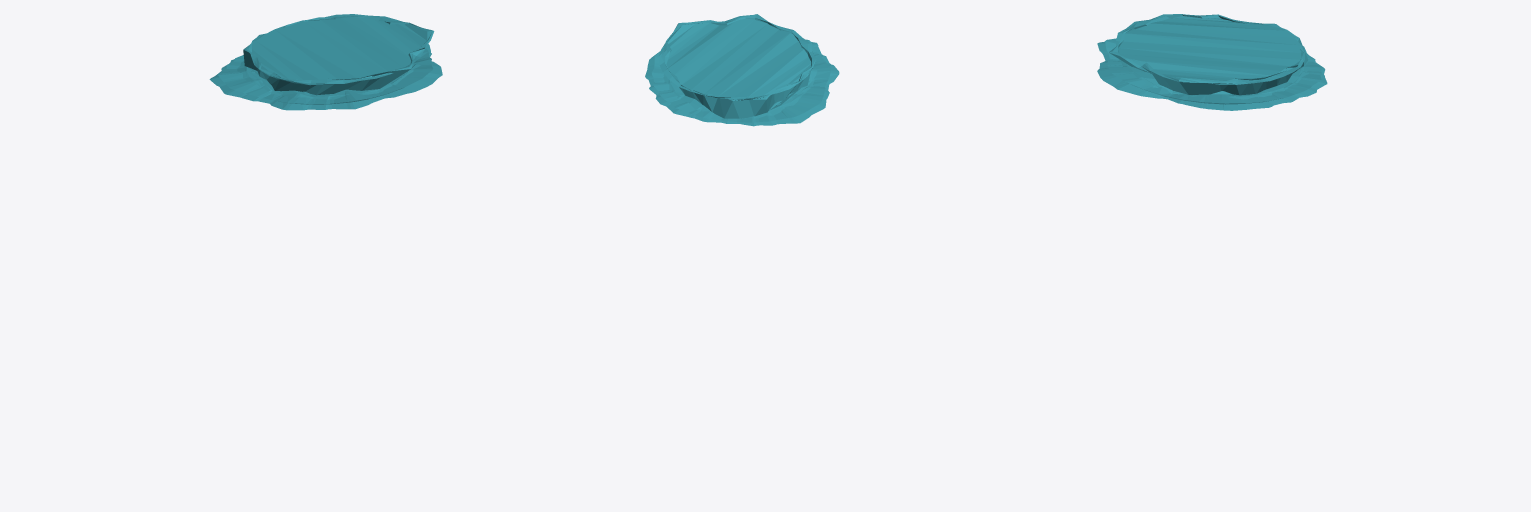
The model's file is crush_high_0.obj.
The picture shows the model from 3 angles, left to right: view 1: azimuth 30°, elevation 25°; view 2: azimuth 150°, elevation 25°; view 3: azimuth 270°, elevation 25°; orthographic projection. The views are drawn at different scales.
Visible parts, largest first — view 1: model; view 2: model; view 3: model.
Boxes of the visible parts, left/top/right/bottom form: model: left=209, top=14, right=442, bottom=110; model: left=645, top=14, right=839, bottom=126; model: left=1097, top=14, right=1327, bottom=110.
Size of the model in its own units: 0.0811 by 0.0711 by 0.0802.
1 material, 1 textured.
